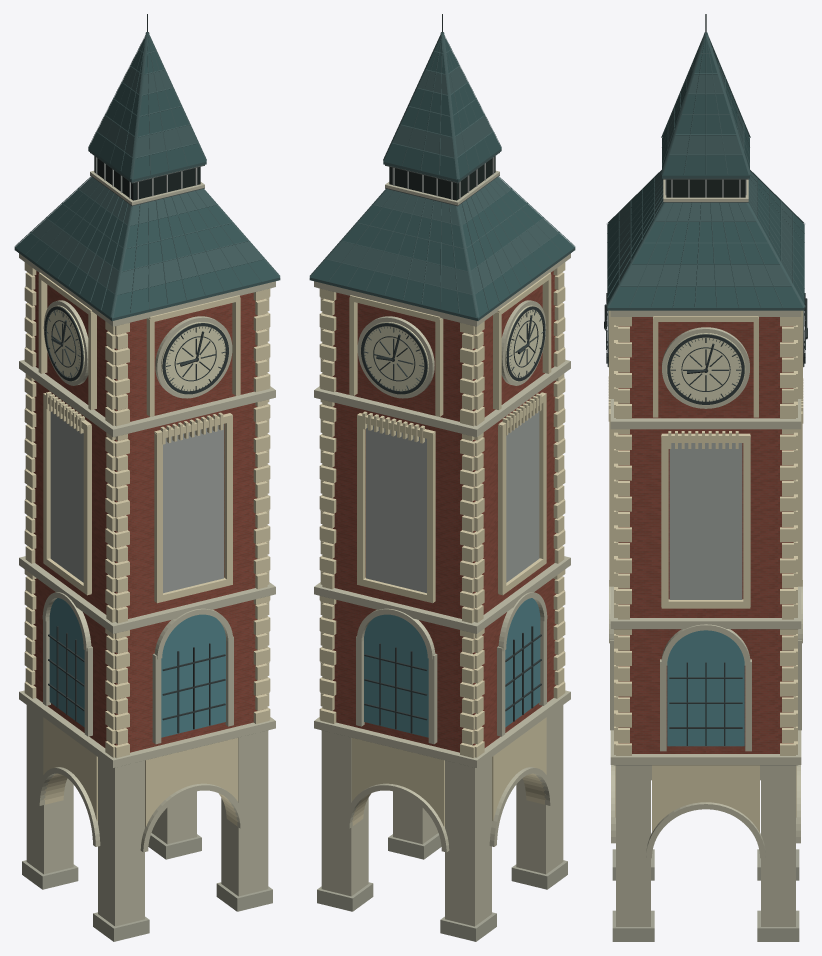
Rendered from clocktower.glb.
The picture shows the model from 3 angles, left to right: view 1: azimuth 30°, elevation 25°; view 2: azimuth 150°, elevation 25°; view 3: azimuth 270°, elevation 25°; orthographic projection.
Visible parts, largest first — view 1: RedBrickUpperTowerBody, ClockLowerTruncatedGreenCap_GreenFoldedRoofPanels, IvoryTowerCornerQuoins, FourOpenPassagePiers, HighRectangularRecess, PaleProjectingTowerCornices, TallArchedTowerGlass, ClockUpperSteepGreenSpire_GreenFoldedRoofPanels, GroundThroughArchedVaults, HighRecessStoneFrame, RoundSkeletonClock_IvoryDial, PierFeet (+18 smaller); view 2: RedBrickUpperTowerBody, ClockLowerTruncatedGreenCap_GreenFoldedRoofPanels, IvoryTowerCornerQuoins, FourOpenPassagePiers, HighRectangularRecess, PaleProjectingTowerCornices, TallArchedTowerGlass, ClockUpperSteepGreenSpire_GreenFoldedRoofPanels, GroundThroughArchedVaults, HighRecessStoneFrame, RoundSkeletonClock_IvoryDial, PierFeet (+18 smaller); view 3: RedBrickUpperTowerBody, ClockLowerTruncatedGreenCap_GreenFoldedRoofPanels, IvoryTowerCornerQuoins, HighRectangularRecess, FourOpenPassagePiers, PaleProjectingTowerCornices, TallArchedTowerGlass, ClockUpperSteepGreenSpire_GreenFoldedRoofPanels, HighRecessStoneFrame, GroundThroughArchedVaults, RoundSkeletonClock_IvoryDial, ClockLowerTruncatedGreenCap_NarrowGreenPanelSeams (+19 smaller).
Boxes of the visible parts, <box> form: RedBrickUpperTowerBody: <box>33,271,257,752</box>; ClockLowerTruncatedGreenCap_GreenFoldedRoofPanels: <box>15,177,279,318</box>; IvoryTowerCornerQuoins: <box>24,262,270,757</box>; FourOpenPassagePiers: <box>26,705,268,926</box>; HighRectangularRecess: <box>50,411,223,593</box>; PaleProjectingTowerCornices: <box>19,253,275,767</box>; TallArchedTowerGlass: <box>49,598,225,737</box>; ClockUpperSteepGreenSpire_GreenFoldedRoofPanels: <box>88,38,206,179</box>; GroundThroughArchedVaults: <box>43,717,238,826</box>; HighRecessStoneFrame: <box>43,393,232,603</box>; RoundSkeletonClock_IvoryDial: <box>47,305,229,394</box>; PierFeet: <box>22,833,272,941</box>; RedBrickUpperTowerBody: <box>332,271,556,752</box>; ClockLowerTruncatedGreenCap_GreenFoldedRoofPanels: <box>310,177,574,318</box>; IvoryTowerCornerQuoins: <box>319,262,565,757</box>; FourOpenPassagePiers: <box>321,705,563,926</box>; HighRectangularRecess: <box>366,411,539,593</box>; PaleProjectingTowerCornices: <box>314,253,570,767</box>; TallArchedTowerGlass: <box>364,598,540,737</box>; ClockUpperSteepGreenSpire_GreenFoldedRoofPanels: <box>383,38,501,179</box>; GroundThroughArchedVaults: <box>351,717,546,826</box>; HighRecessStoneFrame: <box>357,392,546,603</box>; RoundSkeletonClock_IvoryDial: <box>360,305,542,394</box>; PierFeet: <box>317,833,567,941</box>; RedBrickUpperTowerBody: <box>618,317,793,753</box>; ClockLowerTruncatedGreenCap_GreenFoldedRoofPanels: <box>607,171,804,307</box>; IvoryTowerCornerQuoins: <box>614,317,797,755</box>; HighRectangularRecess: <box>669,443,742,599</box>; FourOpenPassagePiers: <box>616,765,795,926</box>; PaleProjectingTowerCornices: <box>610,310,801,764</box>; TallArchedTowerGlass: <box>667,630,744,746</box>; ClockUpperSteepGreenSpire_GreenFoldedRoofPanels: <box>662,38,749,175</box>; HighRecessStoneFrame: <box>609,409,802,608</box>; GroundThroughArchedVaults: <box>615,765,796,832</box>; RoundSkeletonClock_IvoryDial: <box>608,311,803,405</box>; ClockLowerTruncatedGreenCap_NarrowGreenPanelSeams: <box>607,174,804,307</box>.
Size of the model in its own units: 8.14 by 39.14 by 8.14.
Materials: 13 (1 with a texture image).
